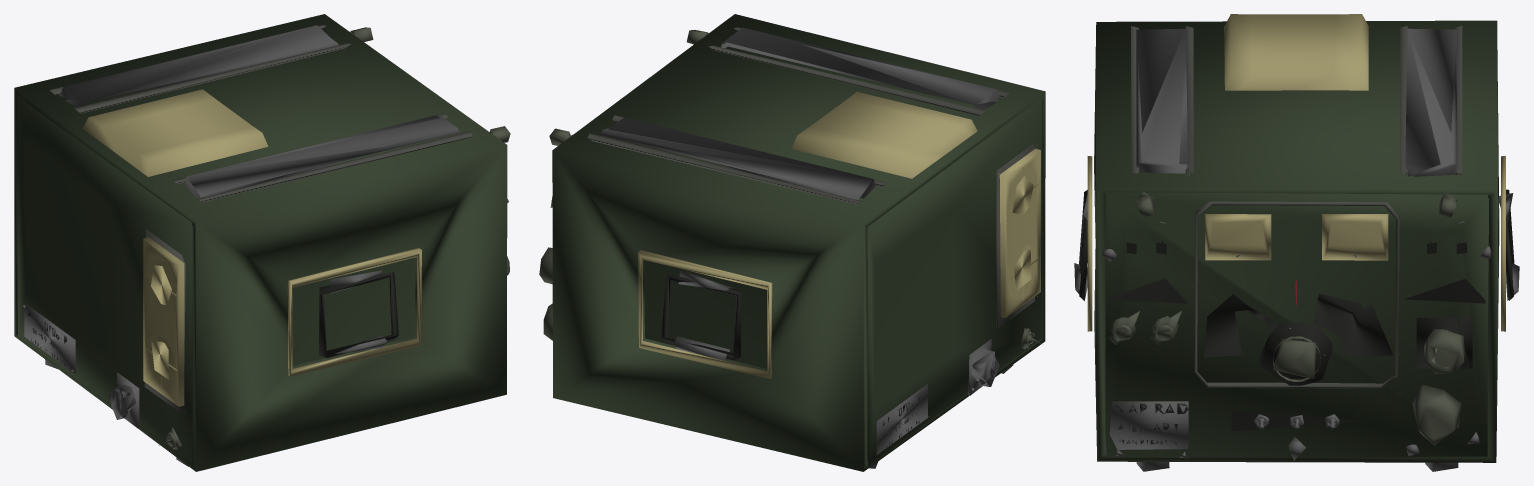
The model's file is radioset.fbx.
3 renders of one model, left to right at view 1: azimuth 30°, elevation 25°; view 2: azimuth 150°, elevation 25°; view 3: azimuth 270°, elevation 25°, orthographic. The views are drawn at different scales.
Visible parts, largest first — view 1: radioset; view 2: radioset; view 3: radioset.
Boxes of the visible parts, x1,y1,x2,y2 form: radioset: [14, 14, 510, 471]; radioset: [539, 14, 1045, 471]; radioset: [1074, 14, 1519, 471].
Bounding box in the file's own units: 0.8022 × 0.5916 × 0.7868.
